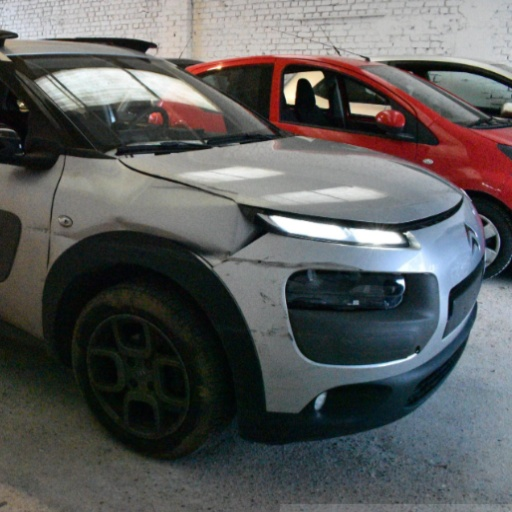dent: (78, 221, 202, 253), (57, 159, 127, 194), (221, 256, 364, 270), (226, 202, 258, 256), (182, 238, 234, 262), (128, 176, 154, 206), (113, 213, 139, 232), (52, 231, 82, 243), (26, 225, 50, 235)
scratch: (223, 256, 364, 270), (188, 180, 239, 195), (147, 184, 205, 191), (277, 281, 287, 320), (230, 209, 239, 248), (259, 324, 279, 337), (27, 227, 51, 235), (54, 231, 73, 239), (260, 290, 272, 301), (258, 342, 270, 353), (281, 333, 294, 341), (260, 255, 275, 260), (270, 279, 278, 284), (249, 329, 258, 333), (280, 326, 287, 331), (261, 299, 267, 304), (260, 306, 266, 310), (271, 304, 276, 308), (226, 272, 230, 277)
